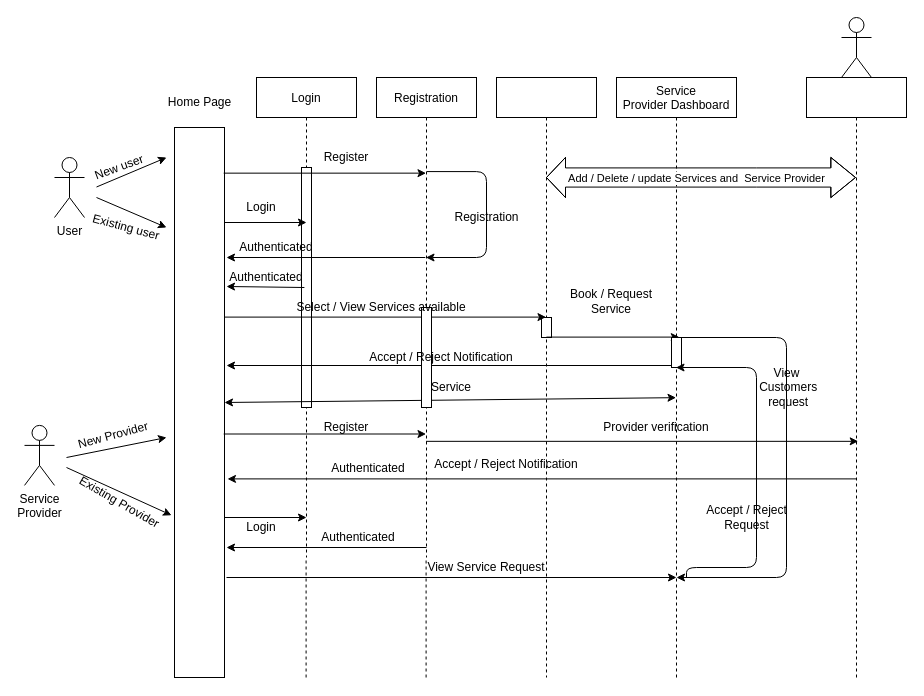
Image size: 924x696. Some labels were removed from this diagram. Here are the shapes that lost their labels. From the top down, the box of each, then its label:
(806, 76, 906, 558): Administration
(496, 76, 596, 678): Services
